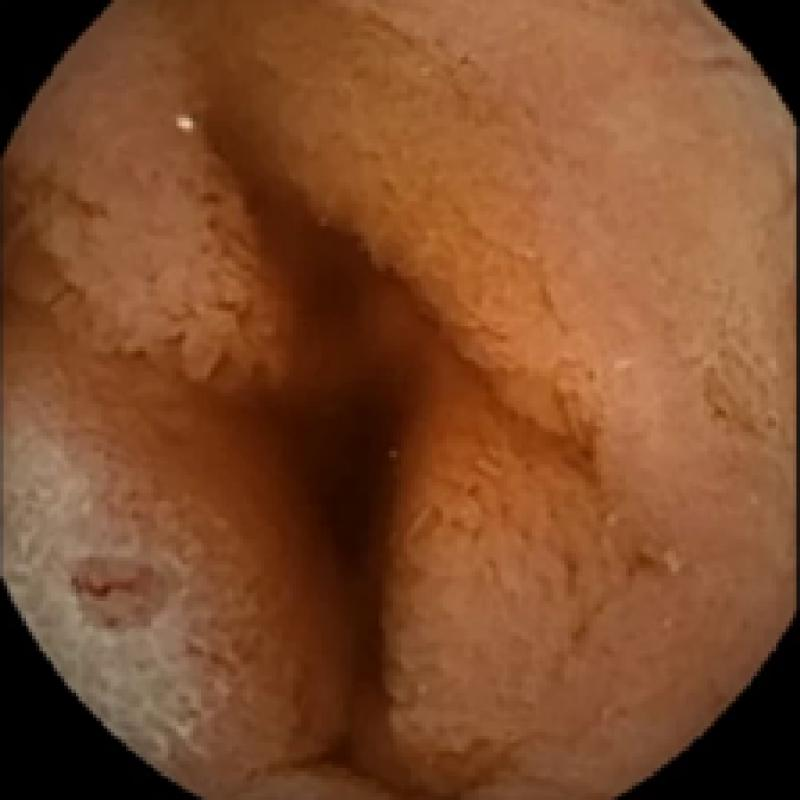bleeding: (183, 140, 497, 796), (72, 550, 149, 626)
